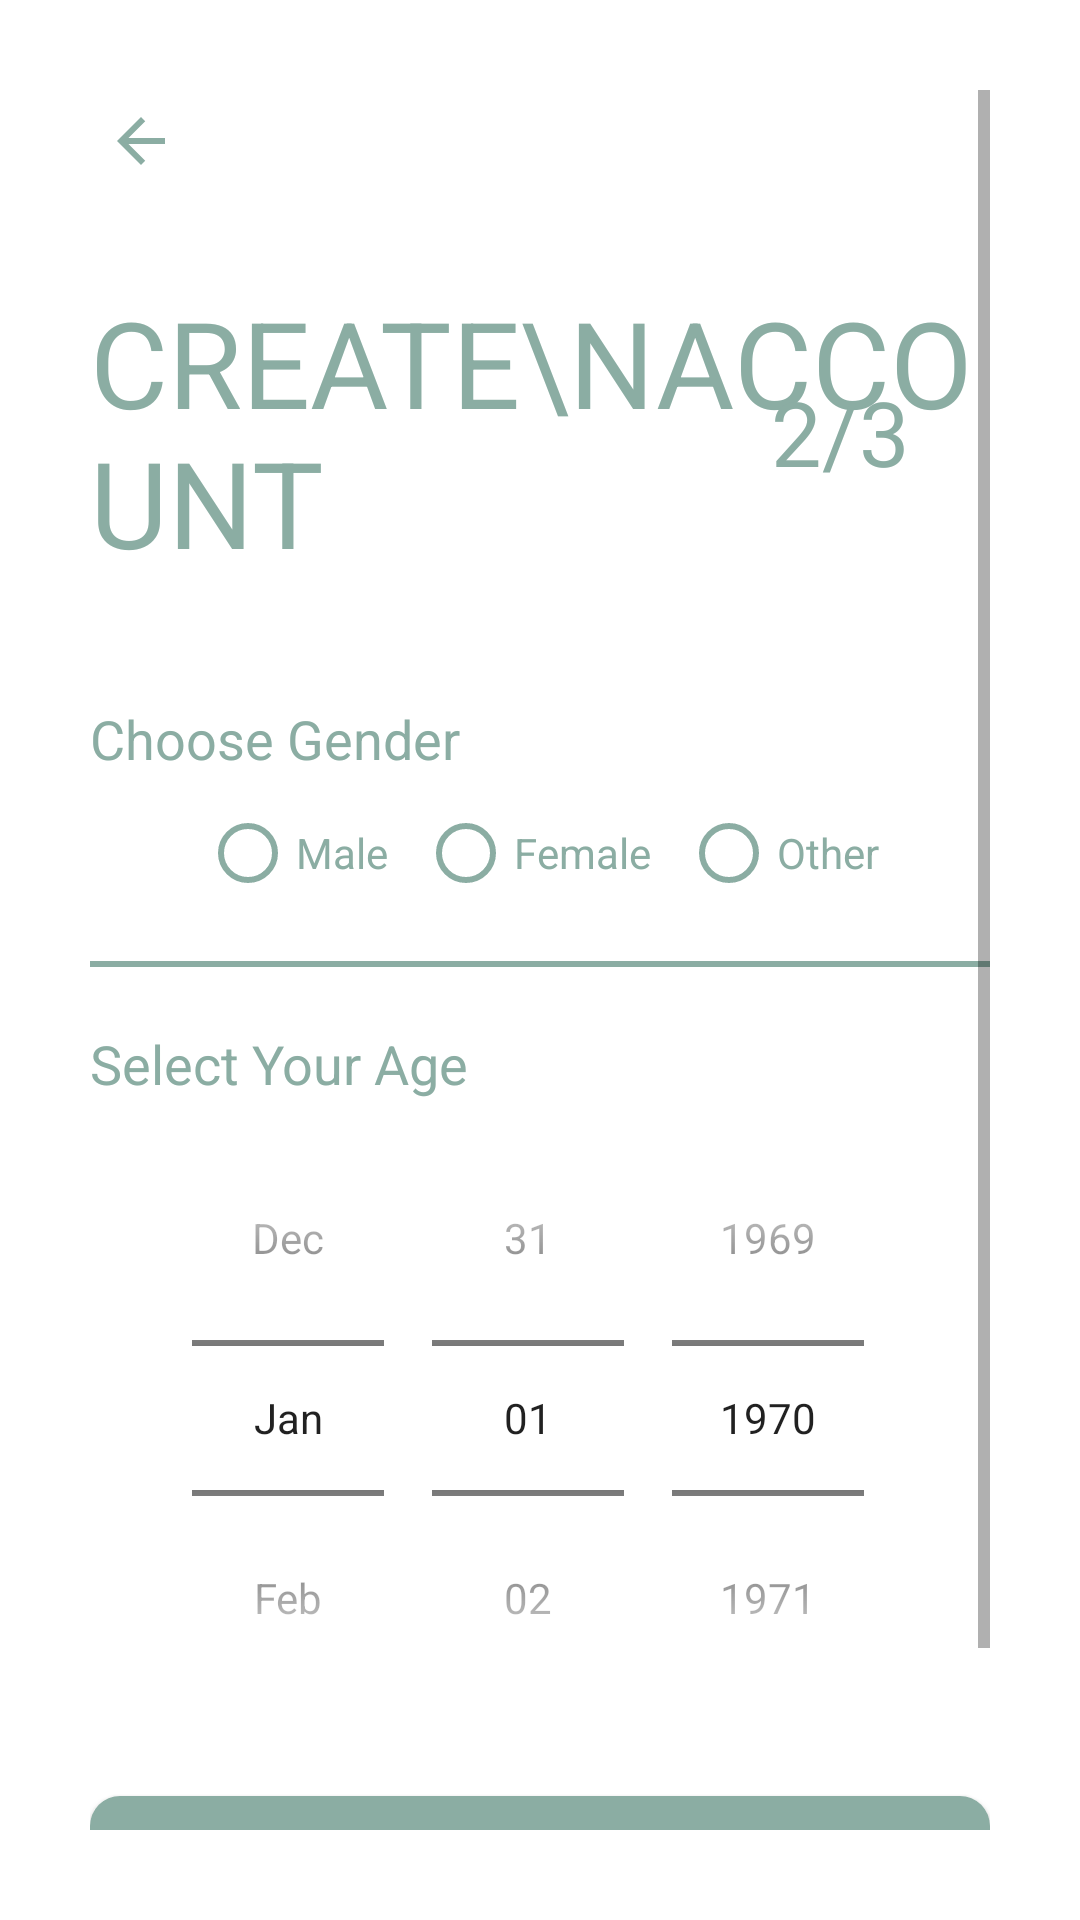

Where icons sit on this 1080px×1920px app screen, as {"x1": x1, "y1": y1, "x2": x2, "y2": y2}:
arrow back: {"x1": 117, "y1": 117, "x2": 165, "y2": 165}
